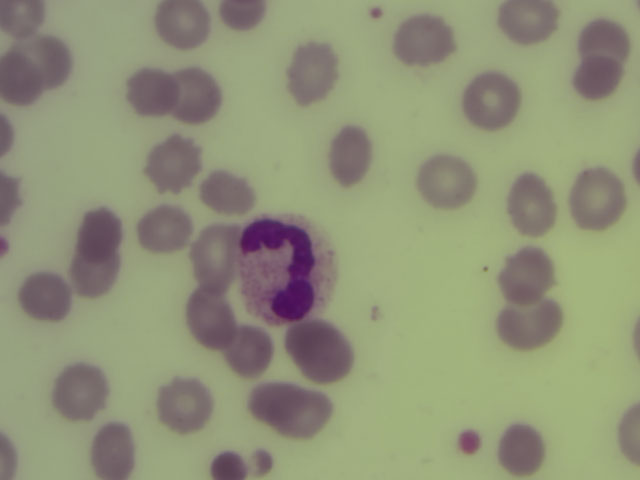Platelets: (460, 430, 481, 455)
RBC: (285, 319, 362, 381), (571, 162, 622, 234), (287, 37, 338, 109), (182, 286, 235, 348), (501, 246, 555, 303), (467, 73, 523, 127), (162, 379, 218, 433), (176, 66, 226, 126), (499, 302, 563, 348), (396, 17, 457, 65), (227, 324, 279, 380), (67, 247, 124, 298), (191, 228, 238, 289), (420, 158, 477, 208), (513, 167, 554, 236), (158, 5, 210, 56), (148, 137, 197, 191), (21, 36, 72, 87), (575, 23, 629, 71), (55, 368, 106, 418), (21, 271, 74, 319), (96, 424, 141, 480), (329, 127, 368, 190), (571, 59, 625, 104), (503, 1, 555, 47), (501, 423, 545, 477), (137, 208, 192, 250), (197, 175, 253, 216), (128, 72, 174, 118), (250, 381, 296, 427), (286, 393, 331, 440), (4, 57, 45, 107), (4, 1, 49, 42), (79, 211, 120, 254), (211, 455, 276, 480), (222, 1, 265, 33), (3, 177, 25, 230), (622, 402, 640, 465), (3, 431, 25, 480), (2, 118, 16, 155)
WBC: (244, 216, 339, 328)
